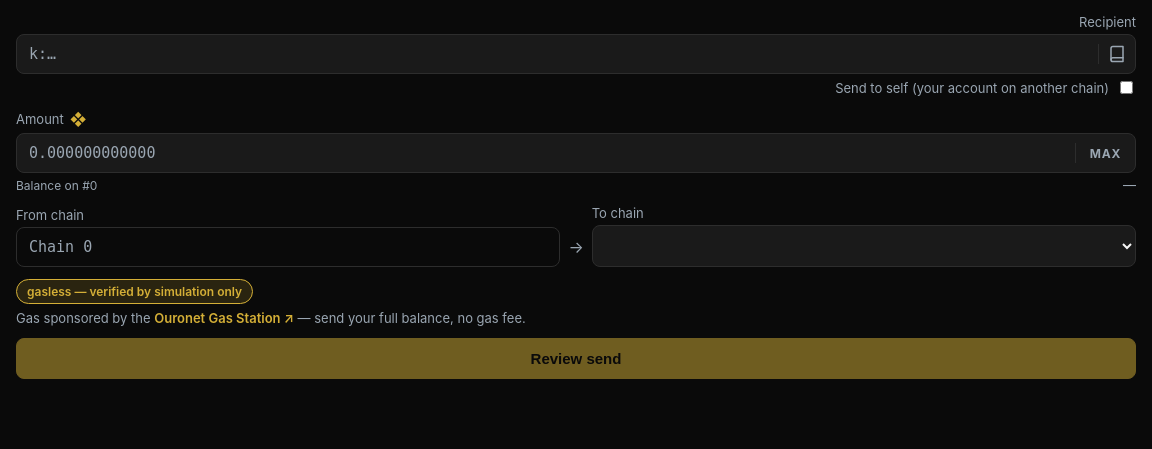
SendForm › discloses the cross-chain 2-step gas model from chain 0: Step 0 GasStation, Step 1 kadena-xchain-gas
Select "1" in the dropdown with test id "send-chain" at (864, 246), box [592,225,1136,267]
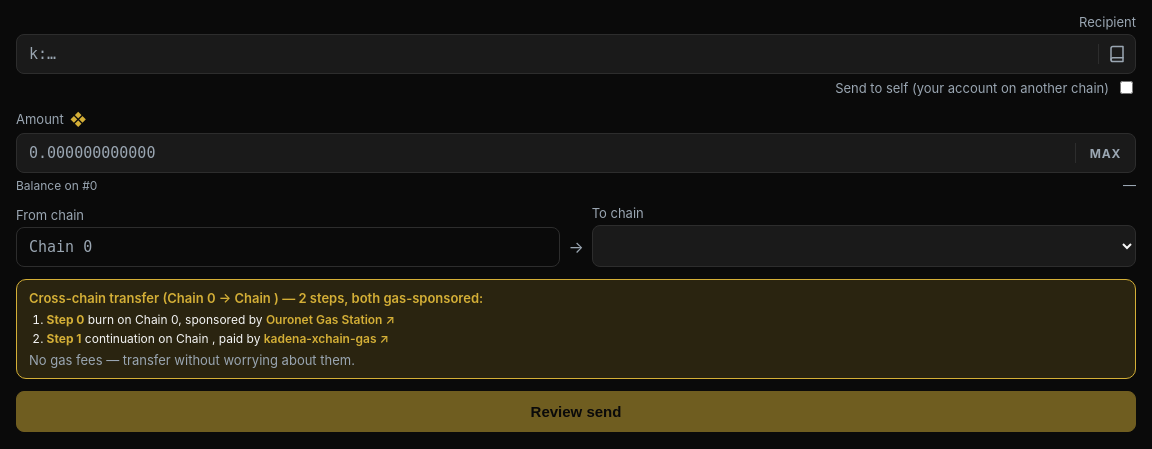
Check: the element with test id "send-crosschain-note" shows "Step 0", box [47,312,84,327]
Check: the element with test id "send-crosschain-note" shows "Step 1", box [47,331,82,346]
